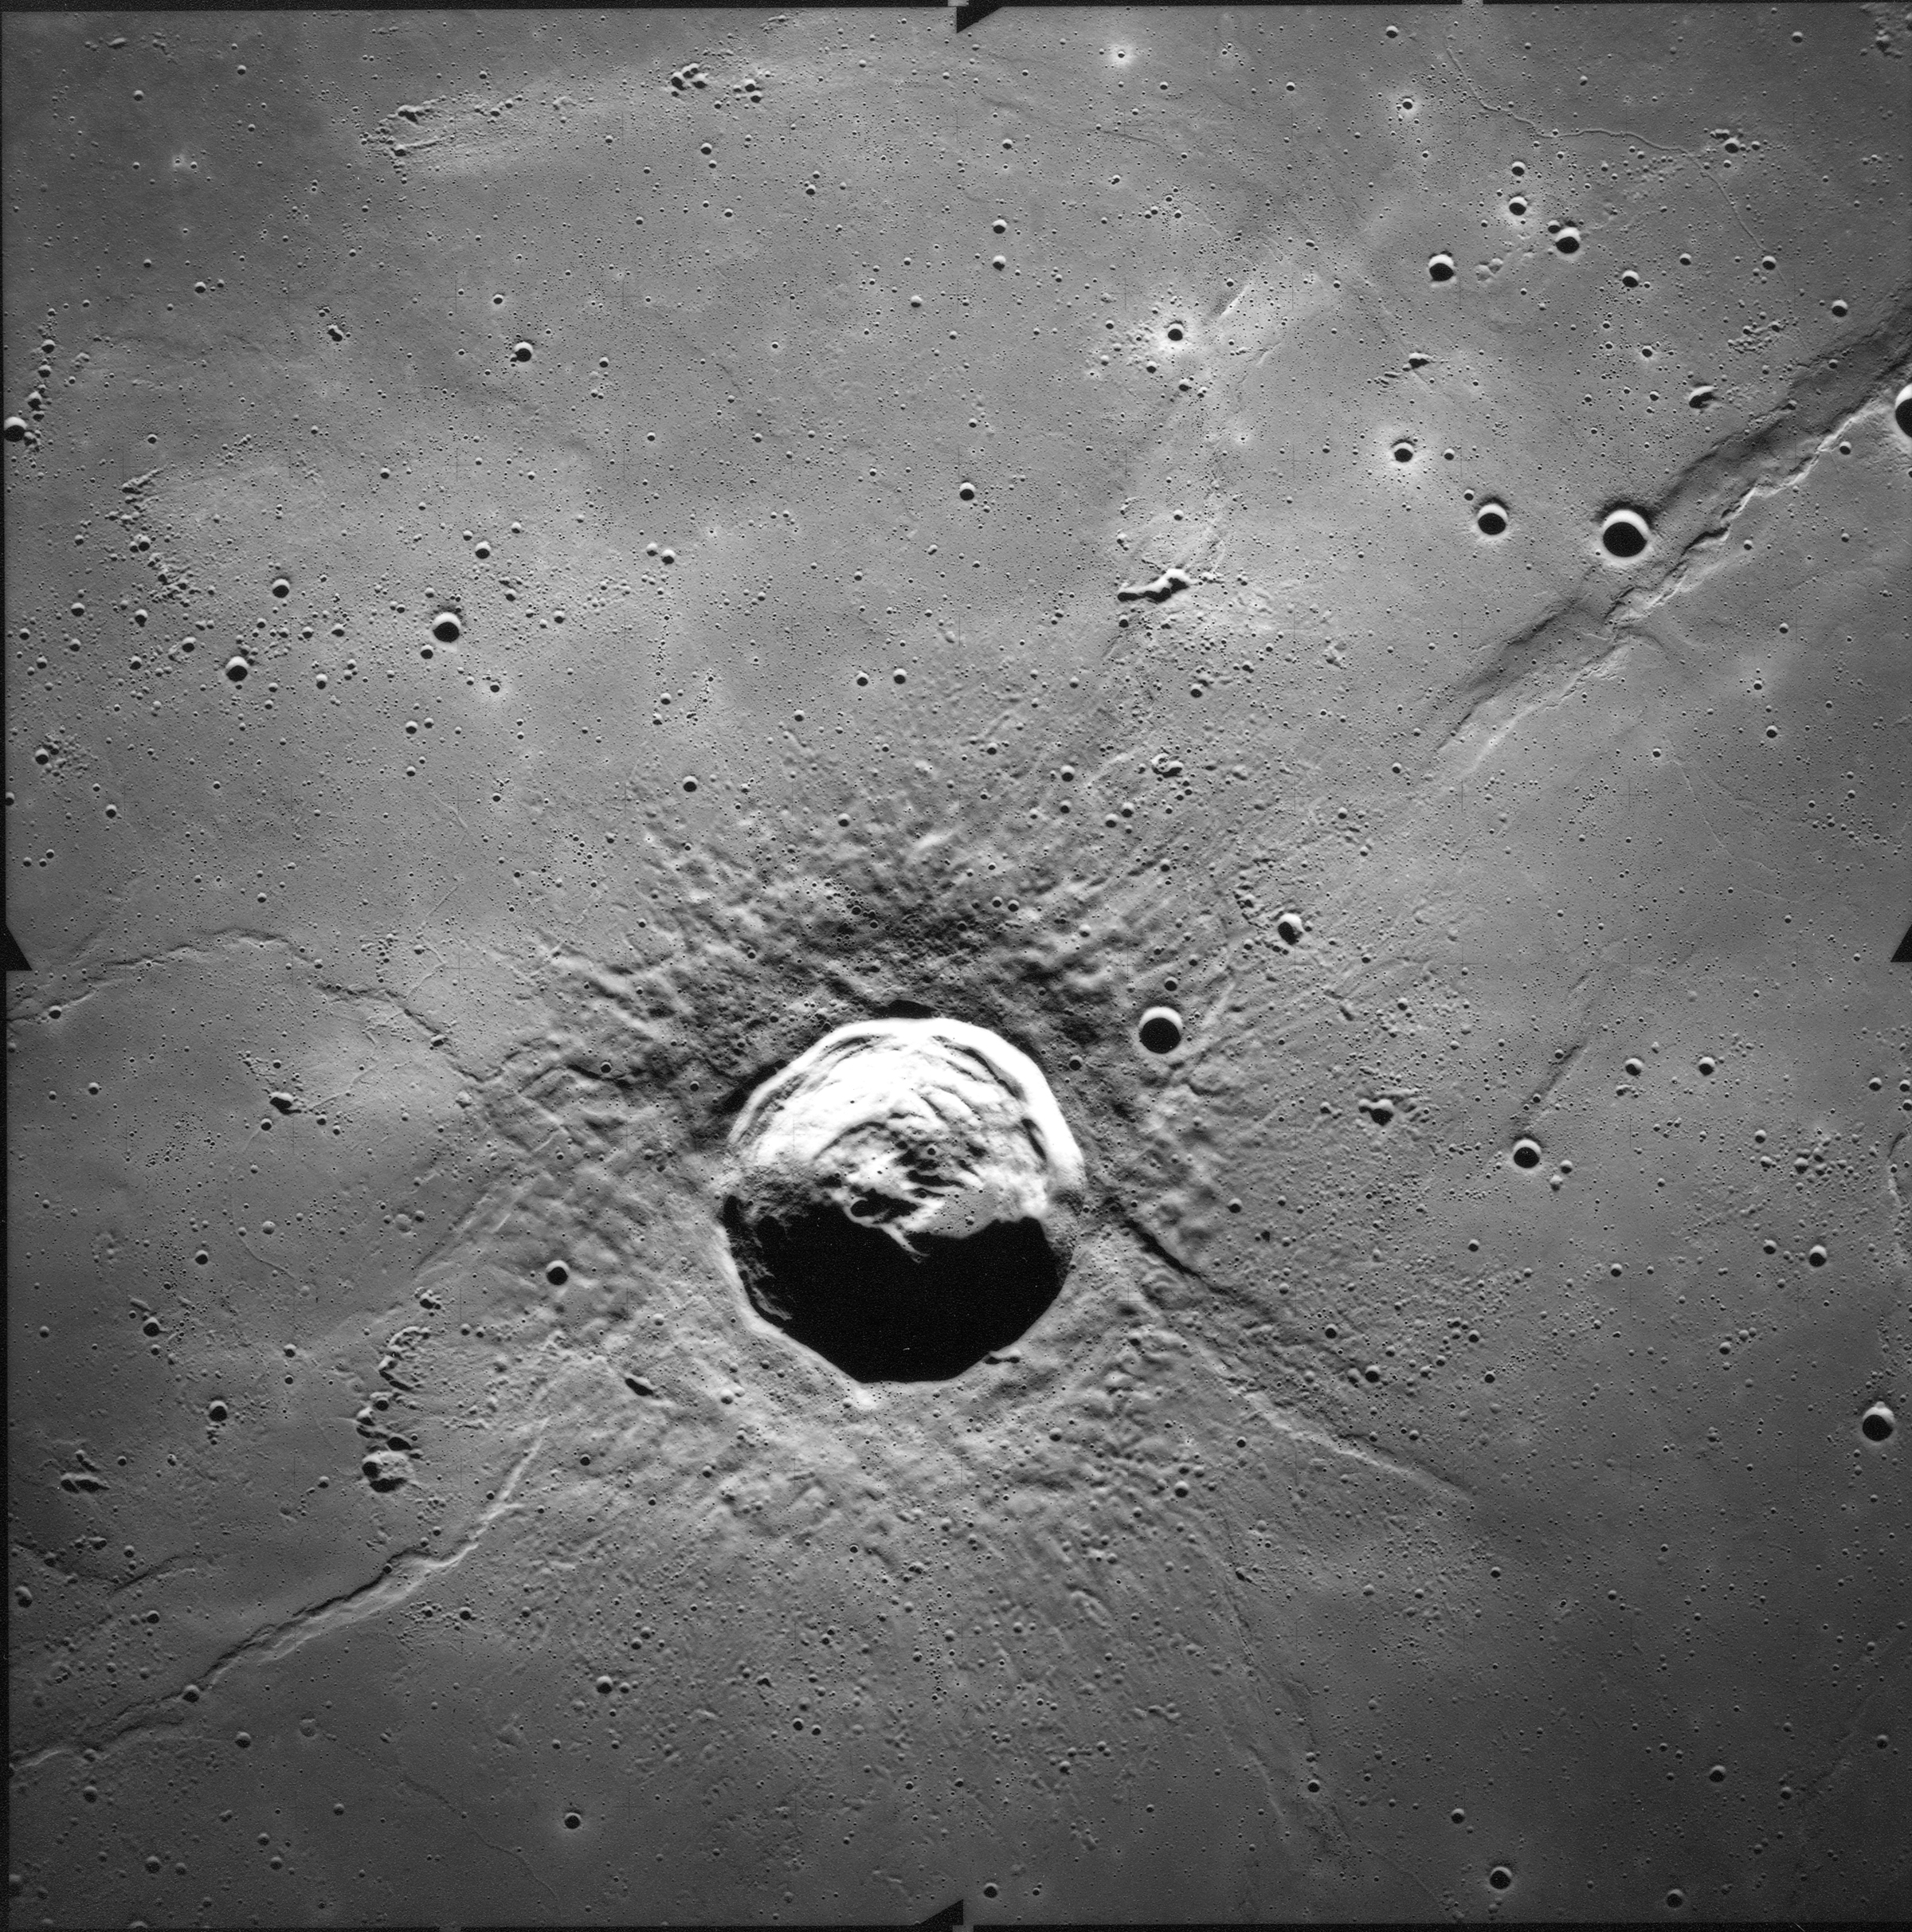crater: (448, 809, 1371, 1569), (1548, 461, 1705, 620), (1796, 1336, 1910, 1499), (478, 319, 573, 401)
